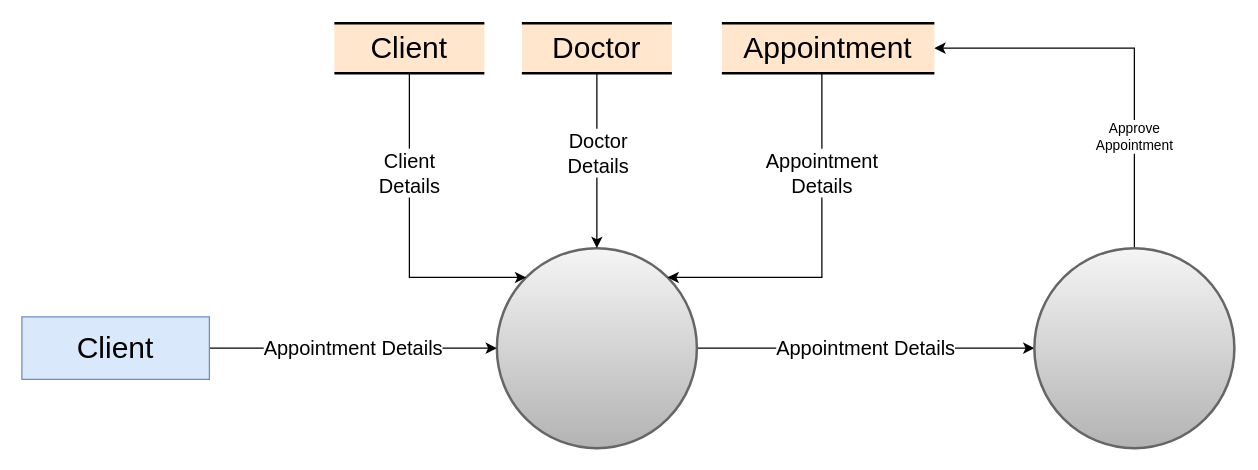
Some shapes in this 1258 by 470 pixel diagram are drawn without their labels. Here are the shapes that lost their labels. From the top down, the centre of each, then its label:
At (596,347): "4.1 Validate Appointment Details".
At (1133,347): "4.2 Approve Appointment Details".
